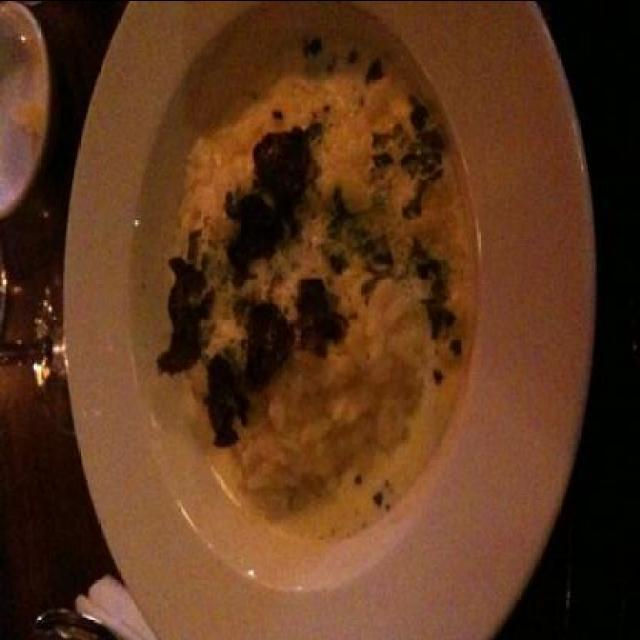Risotto: (160, 36, 462, 547)
